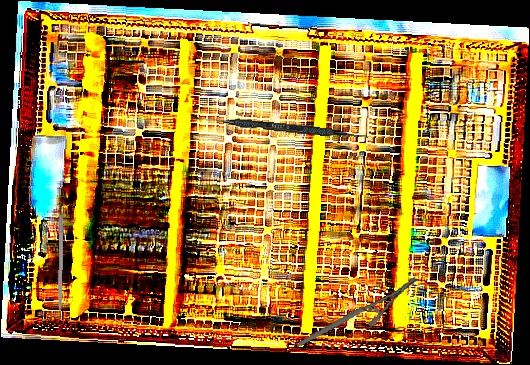Chopper: (51, 214, 64, 326)
Needle Holder: (288, 276, 425, 347)
Spatula Surgical: (190, 114, 370, 140)
